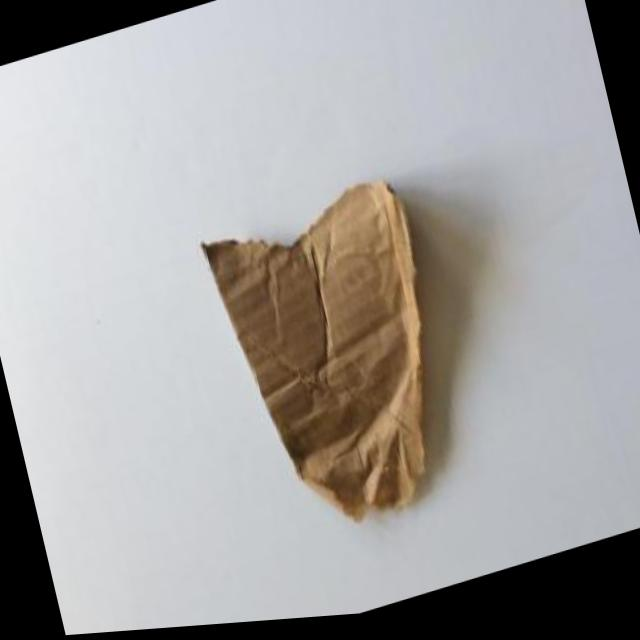box: (188, 162, 494, 584)
